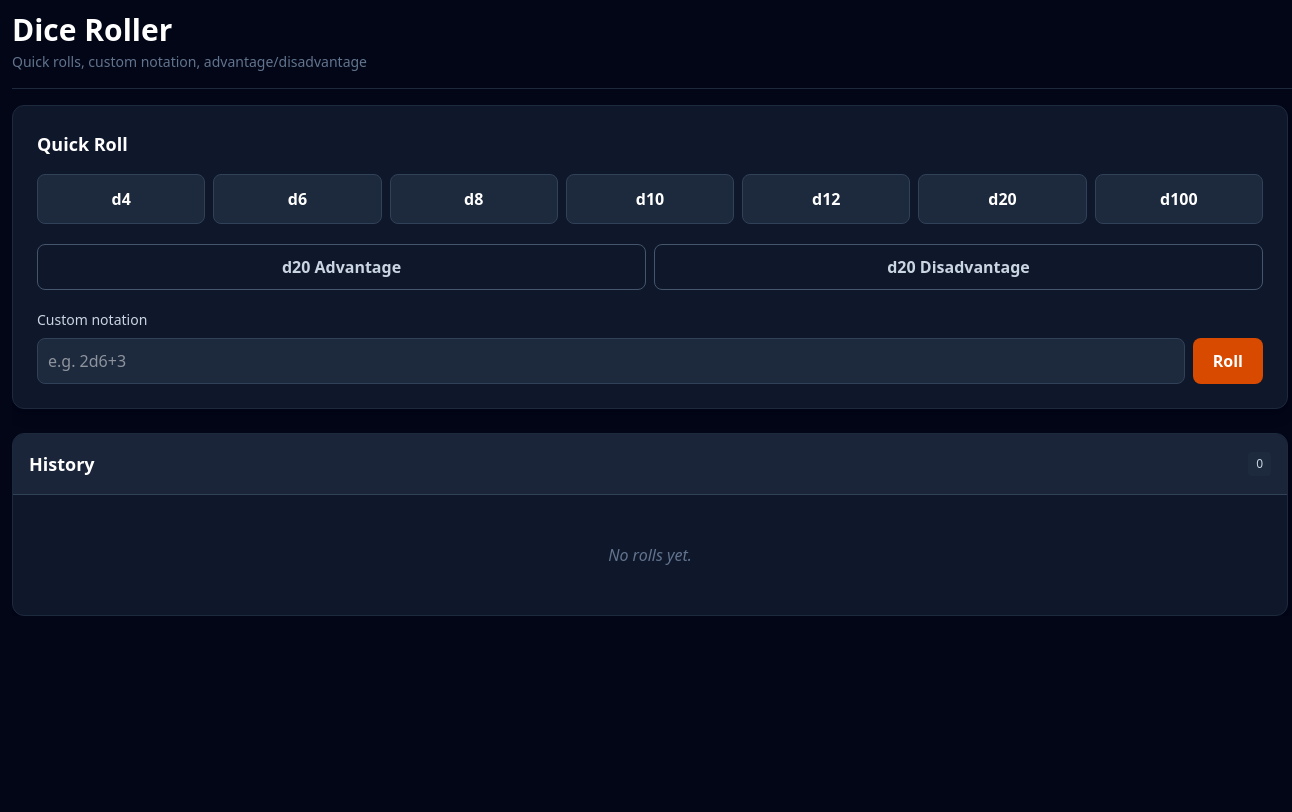
Test: DiceRollerView › shows an error and does not add to history for unparseable notation
In the field labelled "Custom notation": (611,361) x1=37 y1=338 x2=1185 y2=384, type "banana"
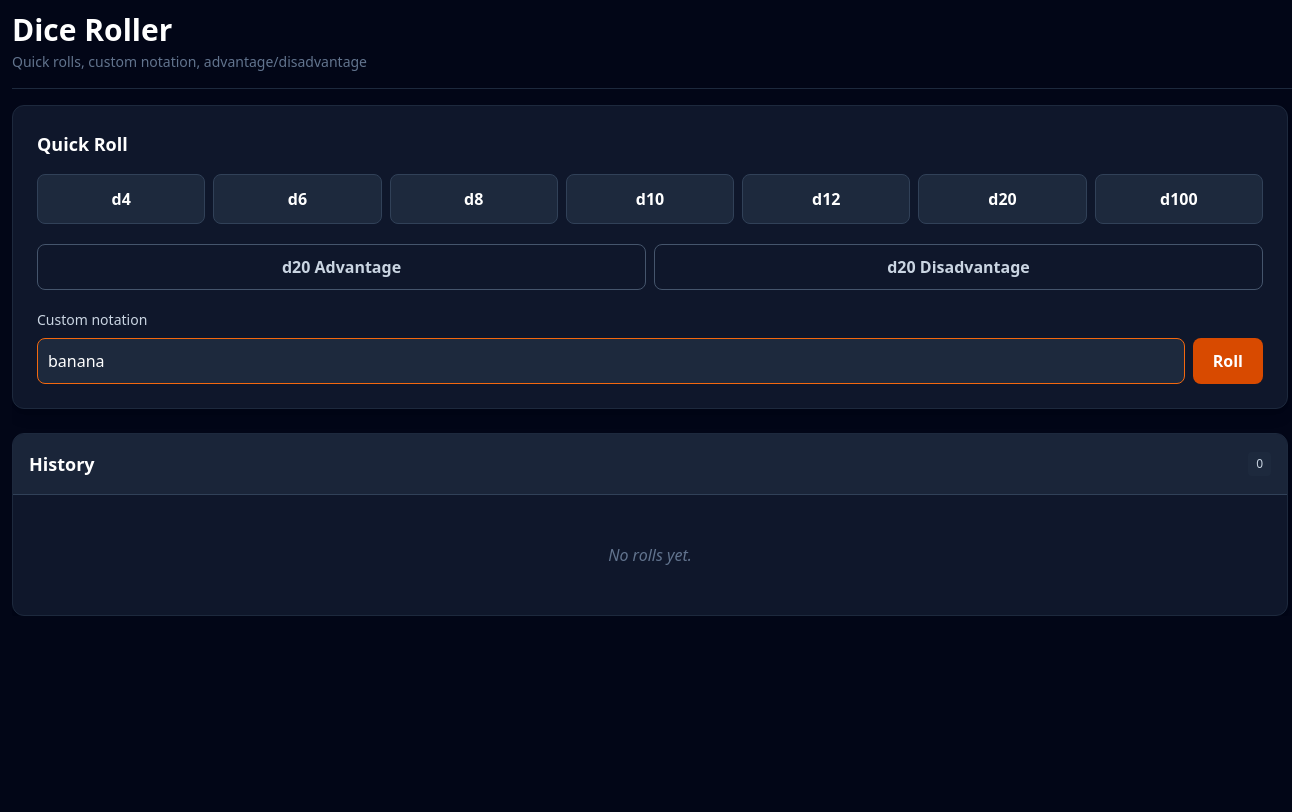
Click the button "Roll": (1228,361) x1=1193 y1=338 x2=1263 y2=384
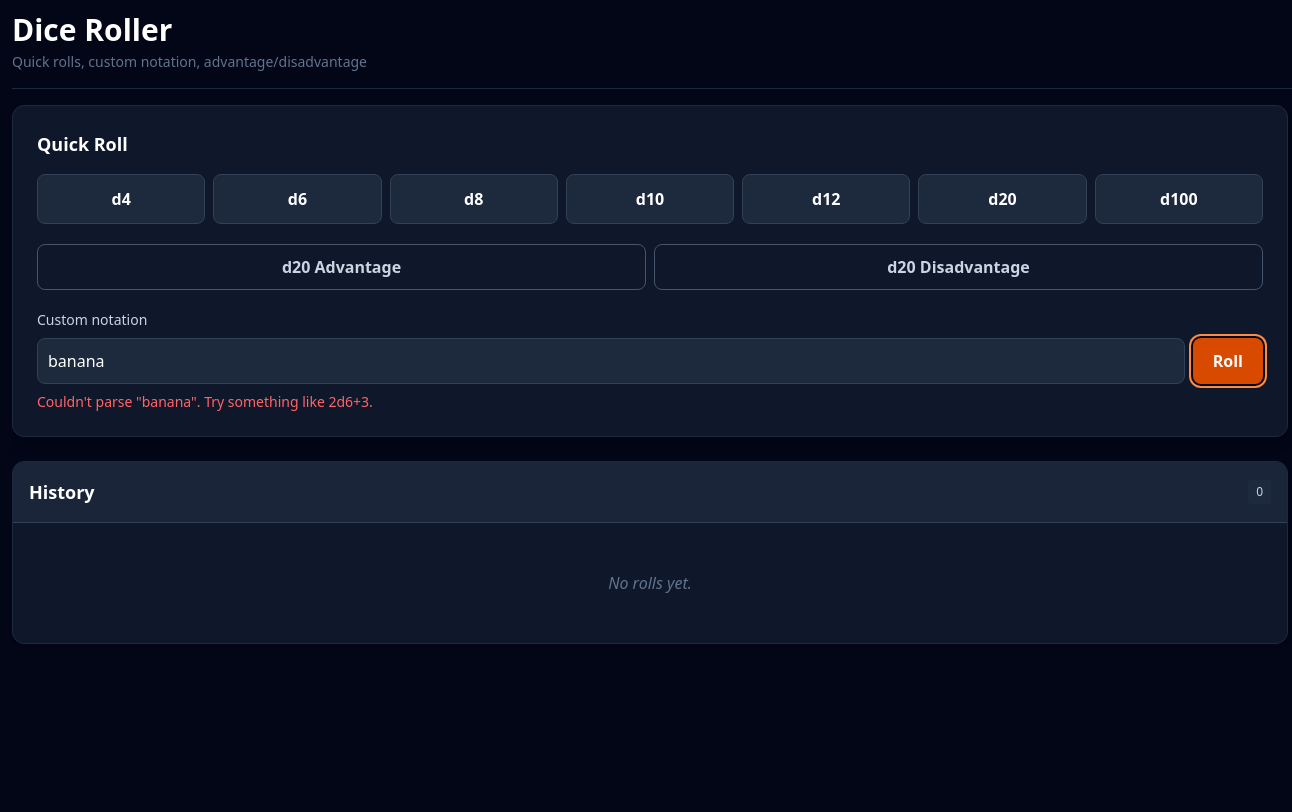
Expected: the text "No rolls yet." is shown, x1=608 y1=572 x2=692 y2=594
Result: the text "Couldn't parse \"banana\". Try something like 2d6+3." is shown at x1=37 y1=392 x2=373 y2=411
